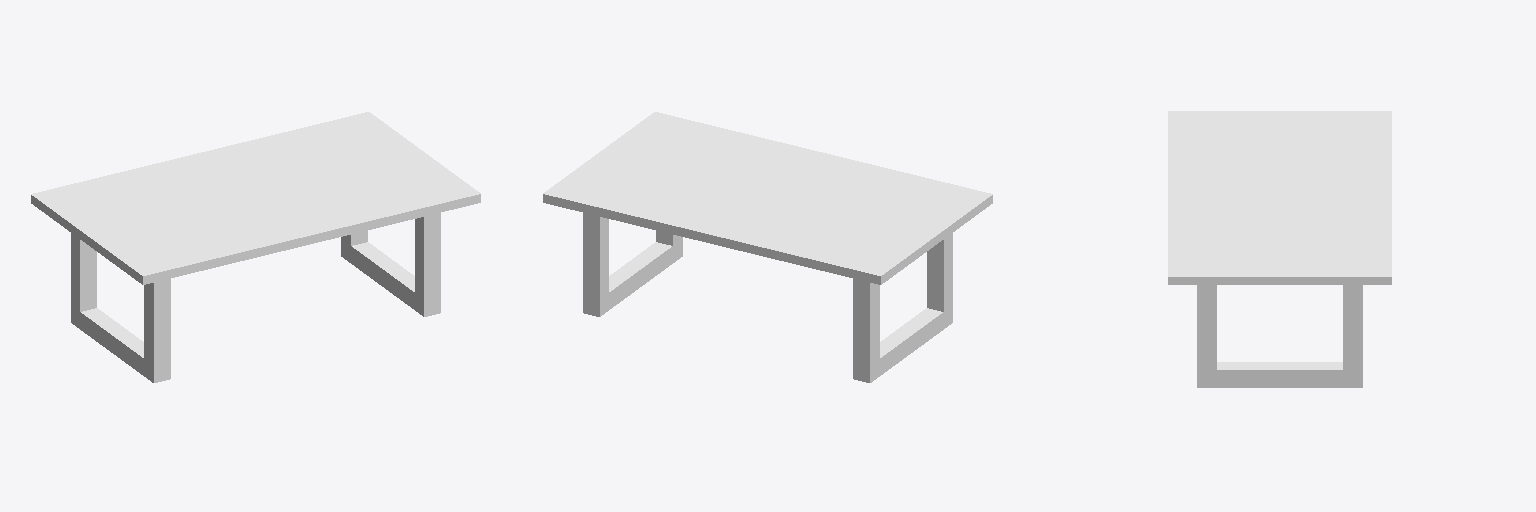
File: kaigitable.obj
3 views of the same model, side by side, from view 1: azimuth 30°, elevation 25°; view 2: azimuth 150°, elevation 25°; view 3: azimuth 270°, elevation 25° (orthographic).
Parts seen in each view (by area): view 1: object 1; view 2: object 1; view 3: object 1.
Part boxes in pixels (bbox=[...]): object 1: bbox=[31, 112, 480, 382]; object 1: bbox=[543, 112, 992, 382]; object 1: bbox=[1168, 111, 1391, 387].
Size of the model in its own units: 4 by 1.4 by 2.3.